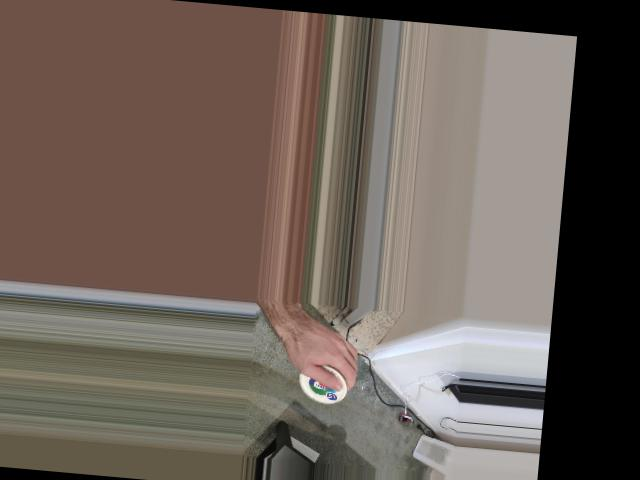cotage: (297, 358, 349, 405)
